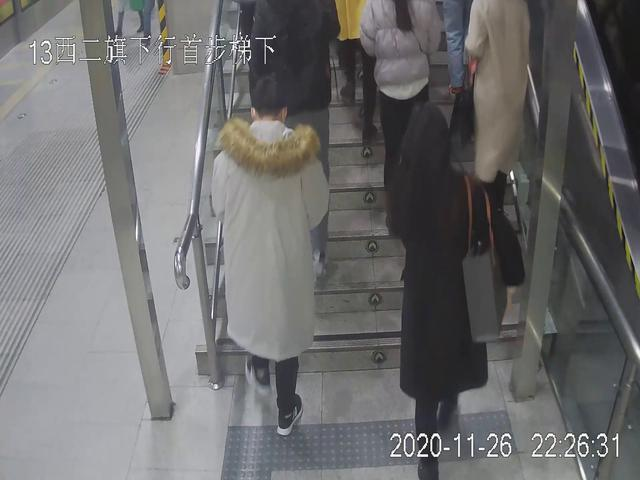person: (382, 105, 528, 480), (205, 67, 335, 438), (244, 1, 346, 280), (358, 1, 445, 238), (462, 1, 535, 239)
